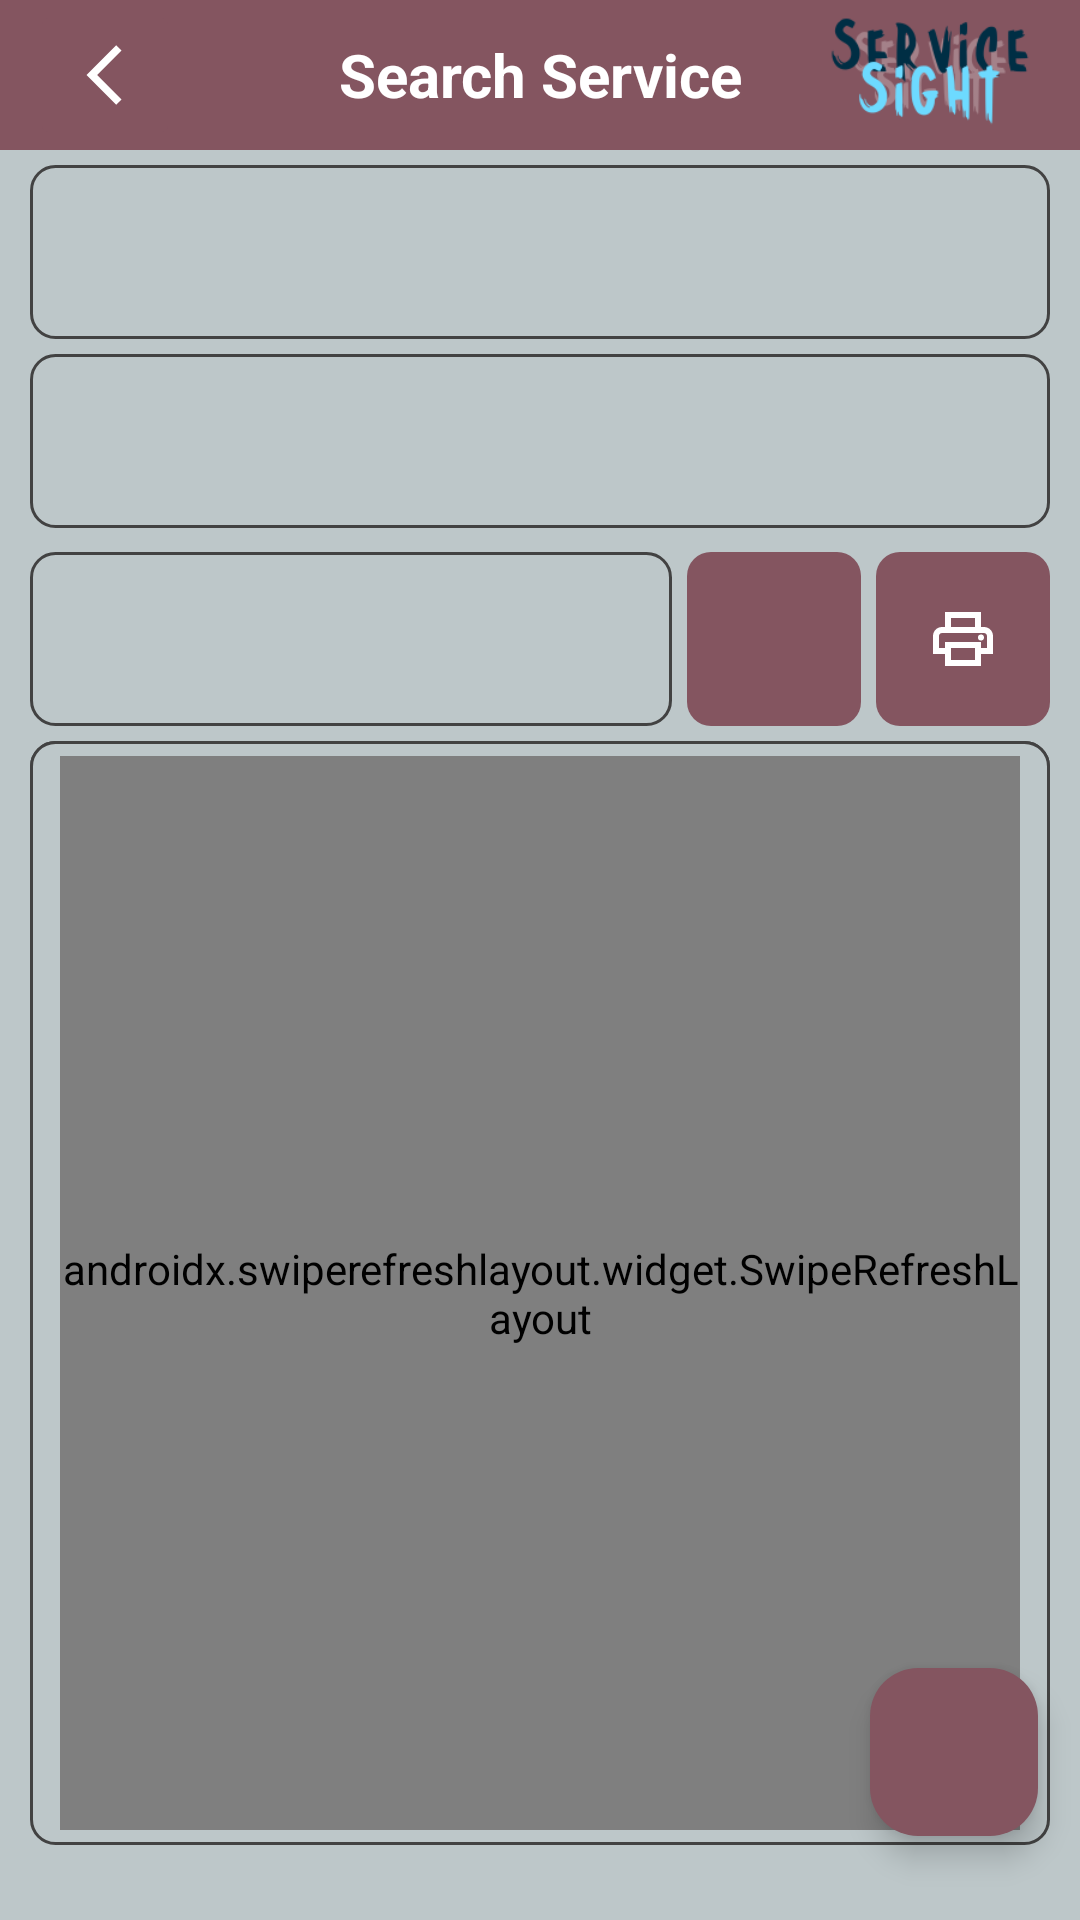

Named icons in this screenshot (1080 × 1920) and their centers, [x,y]:
Back Icon: [104,75]
Print: [963,639]
